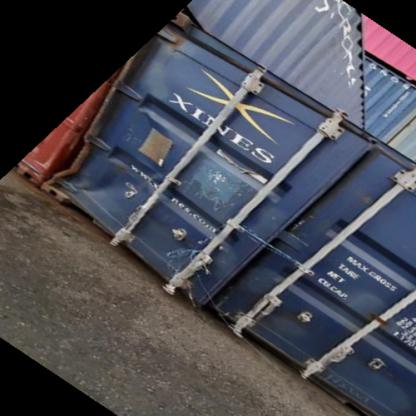Damage: (174, 151, 267, 219), (154, 238, 219, 294), (71, 154, 131, 202), (253, 284, 310, 327), (340, 284, 392, 316), (341, 186, 380, 220)
